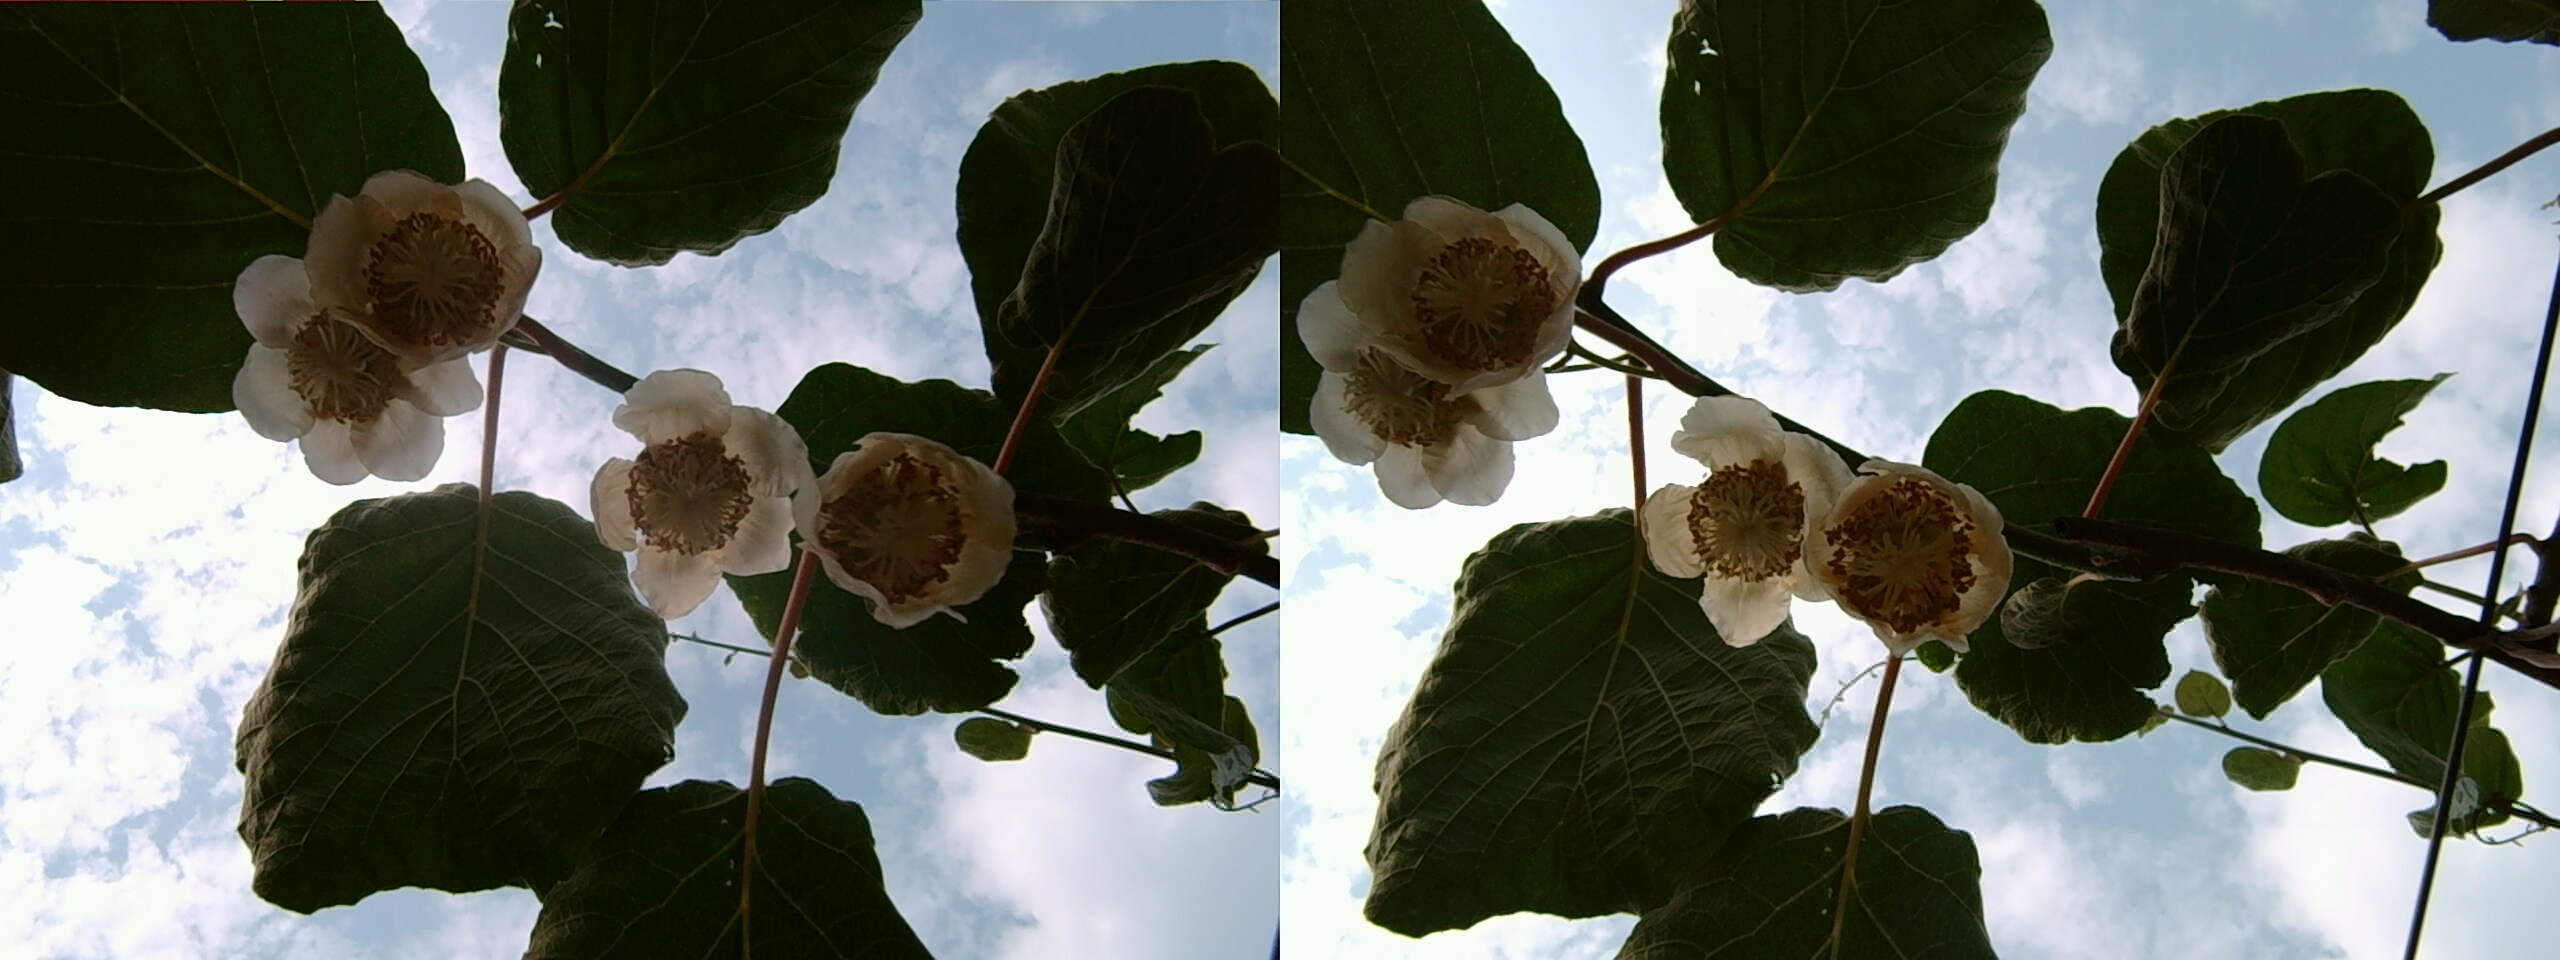flower: (220, 222, 490, 477), (1293, 261, 1572, 496), (578, 358, 810, 611), (1318, 189, 1584, 398), (291, 158, 549, 374), (1639, 389, 1850, 642), (1801, 449, 2015, 651), (802, 426, 1011, 619)
